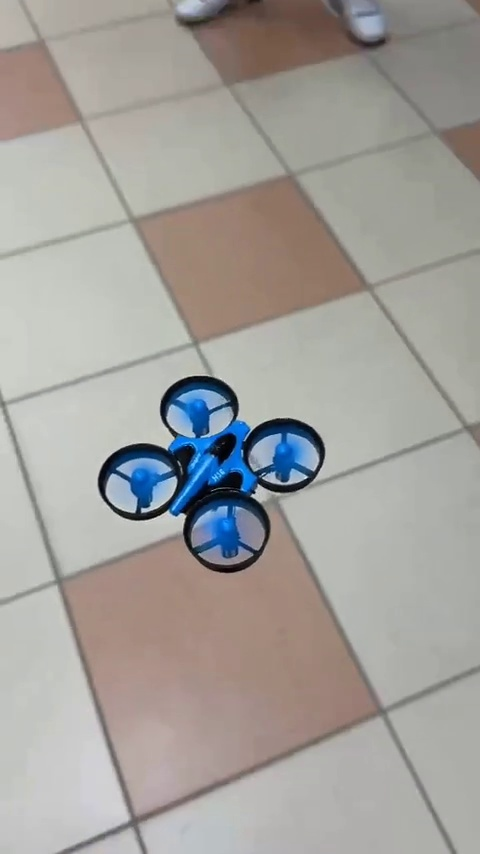drone: (98, 373, 325, 566)
